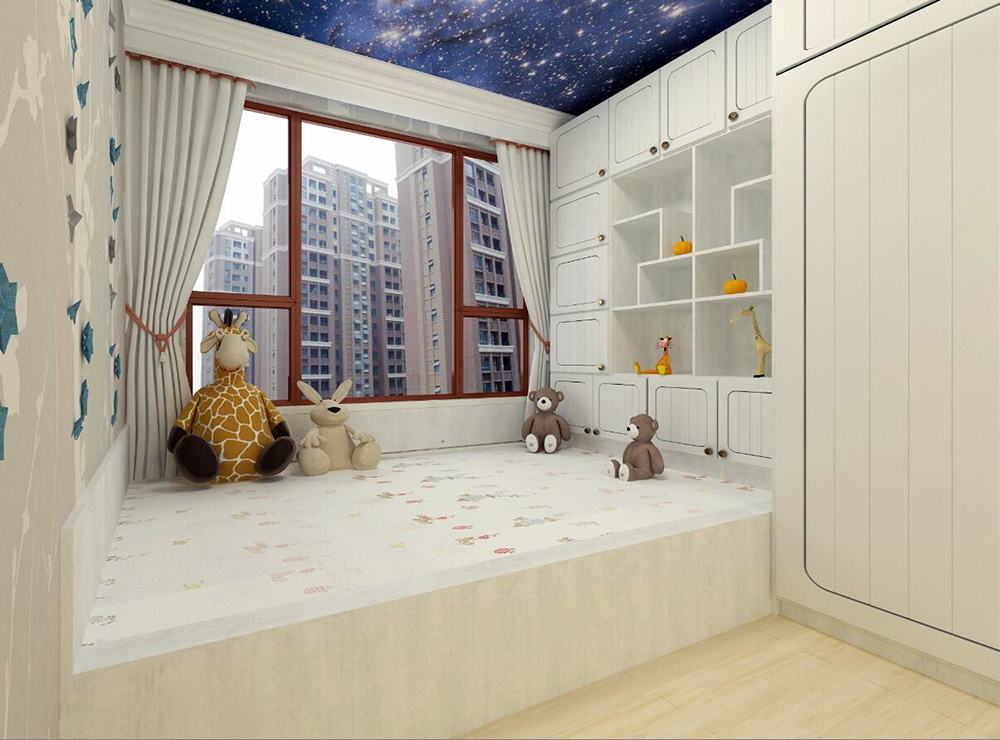床: (63, 439, 797, 740)
